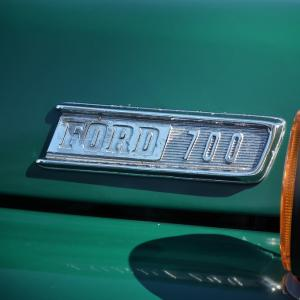Vehicle-registration-plate: (30, 108, 281, 190)
